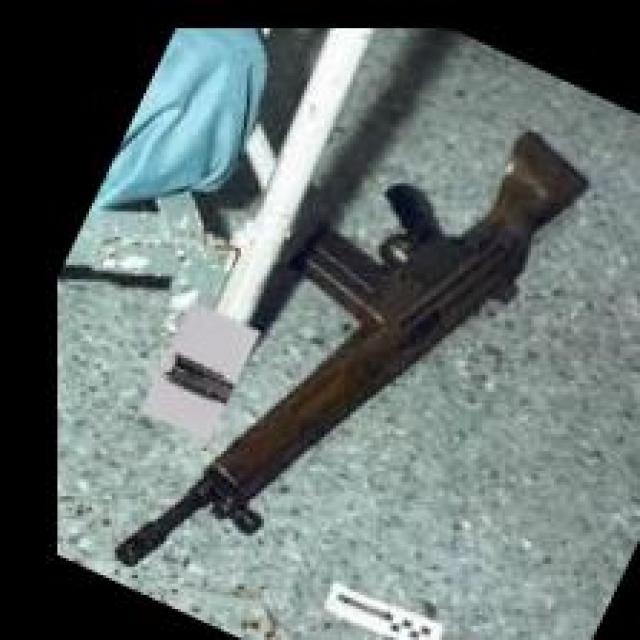weapon: (114, 132, 593, 568)
